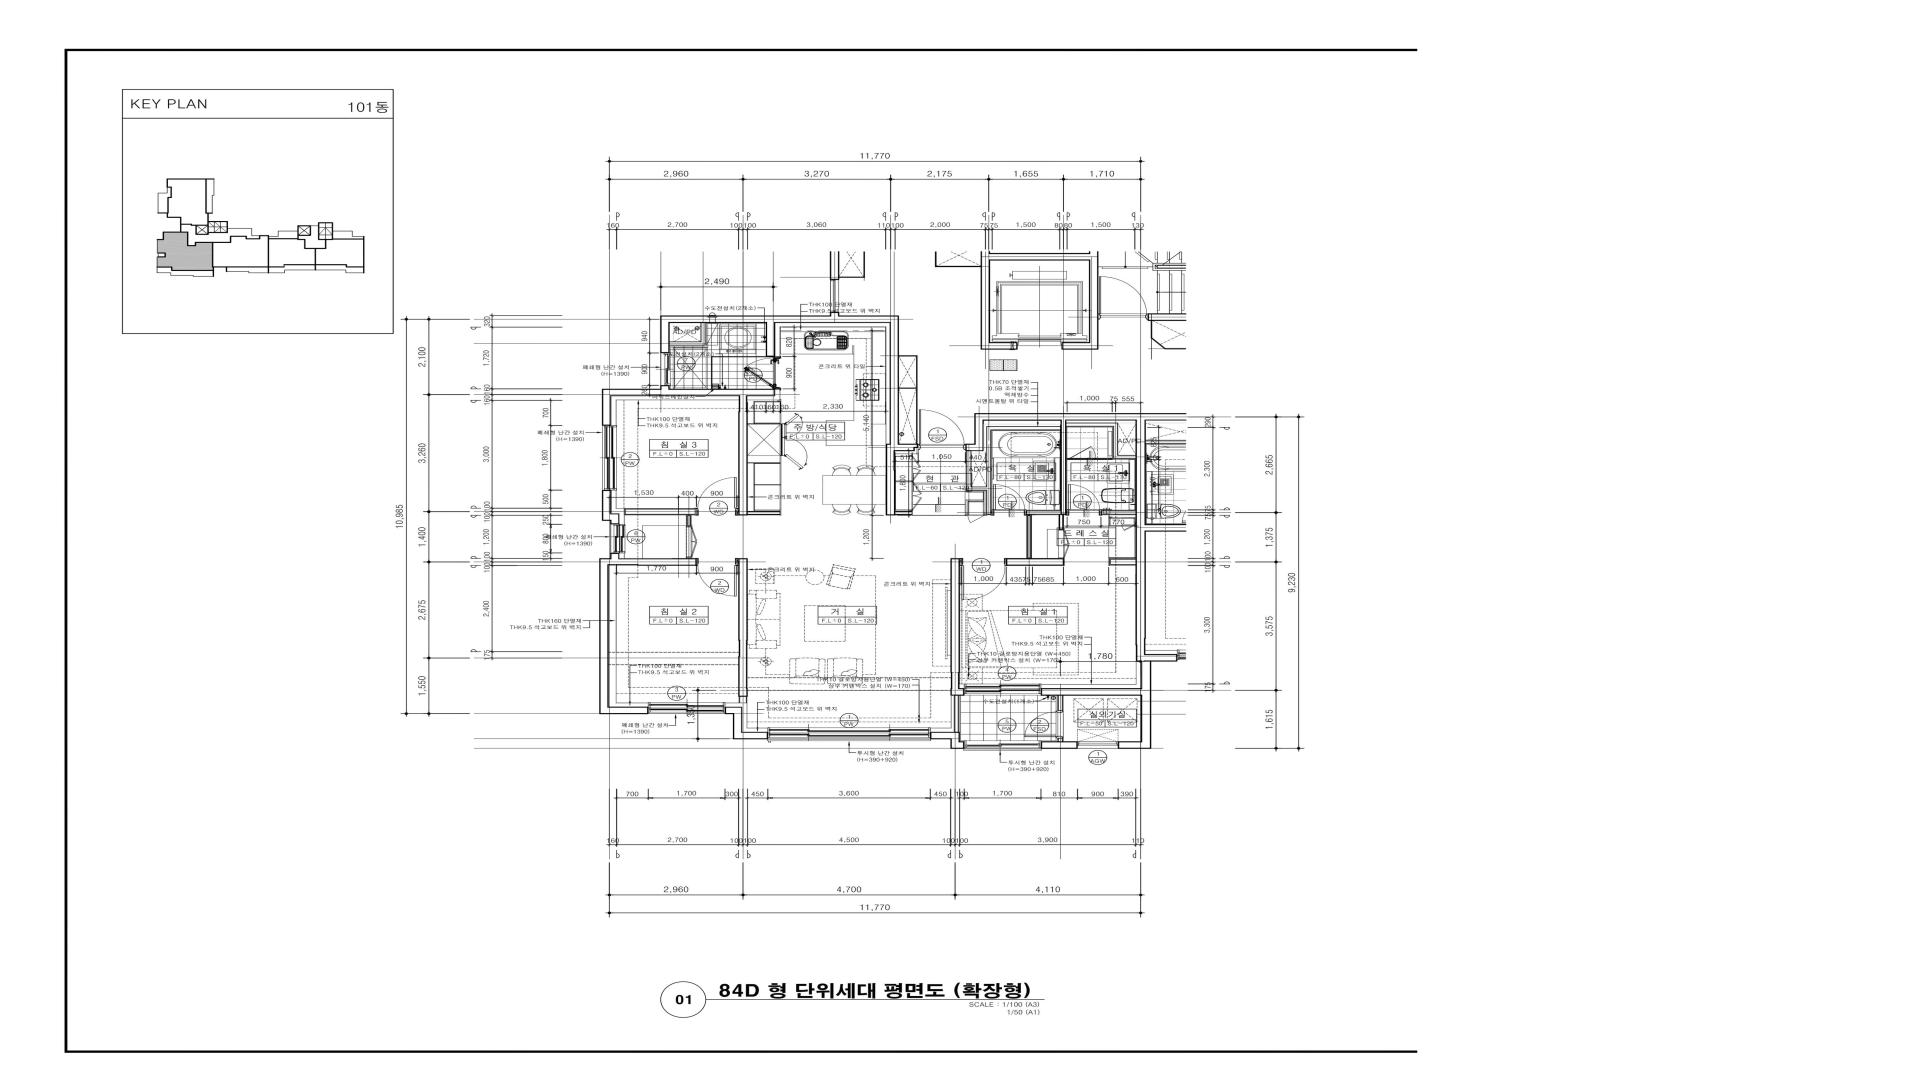door: (1098, 276, 1147, 319), (960, 558, 1006, 600), (918, 409, 965, 450), (695, 477, 738, 516), (696, 558, 738, 596), (744, 356, 781, 389), (1065, 484, 1101, 516), (992, 484, 1026, 516), (1026, 711, 1064, 738), (1067, 446, 1096, 460)
wall: (1135, 421, 1151, 749), (661, 315, 890, 323), (975, 413, 1187, 421), (599, 566, 609, 715), (738, 558, 748, 696), (951, 558, 960, 688), (890, 315, 899, 444), (601, 389, 775, 396), (738, 396, 748, 516), (1089, 251, 1098, 349), (981, 252, 990, 349), (1040, 688, 1142, 696), (990, 253, 1089, 261), (599, 558, 696, 566), (1060, 421, 1067, 514), (886, 451, 895, 516), (624, 508, 695, 516), (1006, 558, 1064, 566), (986, 430, 992, 514), (601, 396, 612, 426), (766, 323, 775, 357), (609, 707, 649, 715), (986, 426, 1060, 430), (1042, 741, 1077, 749), (661, 323, 670, 353), (975, 421, 984, 451), (829, 251, 839, 280), (1147, 314, 1187, 320), (886, 443, 918, 451), (601, 491, 612, 514), (733, 713, 742, 740), (1026, 514, 1031, 558), (931, 732, 960, 740), (990, 342, 1018, 349), (1062, 342, 1089, 349), (967, 451, 972, 491), (1109, 558, 1135, 566), (742, 732, 767, 740), (1118, 741, 1142, 749), (953, 696, 959, 732), (1113, 426, 1118, 459), (1151, 338, 1166, 349), (601, 514, 620, 524), (670, 342, 705, 345), (1026, 510, 1060, 514), (1067, 423, 1118, 426), (1101, 510, 1135, 514), (725, 707, 742, 715), (748, 512, 781, 516), (951, 740, 964, 749), (916, 356, 918, 443), (951, 688, 964, 696), (700, 323, 705, 342), (895, 510, 913, 516), (1059, 514, 1064, 530), (1058, 696, 1063, 711), (965, 443, 975, 451), (1118, 455, 1135, 459), (984, 491, 986, 514), (738, 696, 748, 703), (935, 266, 981, 268), (972, 487, 986, 491), (686, 516, 691, 526), (965, 500, 984, 502), (611, 553, 620, 558), (965, 502, 969, 514), (1096, 458, 1113, 460), (661, 385, 670, 389), (839, 277, 865, 278), (864, 252, 865, 277), (829, 313, 840, 315), (1164, 348, 1185, 349), (899, 355, 918, 356), (899, 388, 916, 389), (1151, 320, 1153, 338), (935, 252, 936, 266)
window: (767, 728, 931, 741), (603, 425, 617, 491), (647, 702, 725, 713), (964, 683, 1040, 695), (964, 741, 1042, 750), (611, 524, 625, 553), (1077, 741, 1118, 749), (661, 353, 670, 385), (831, 280, 839, 313)
